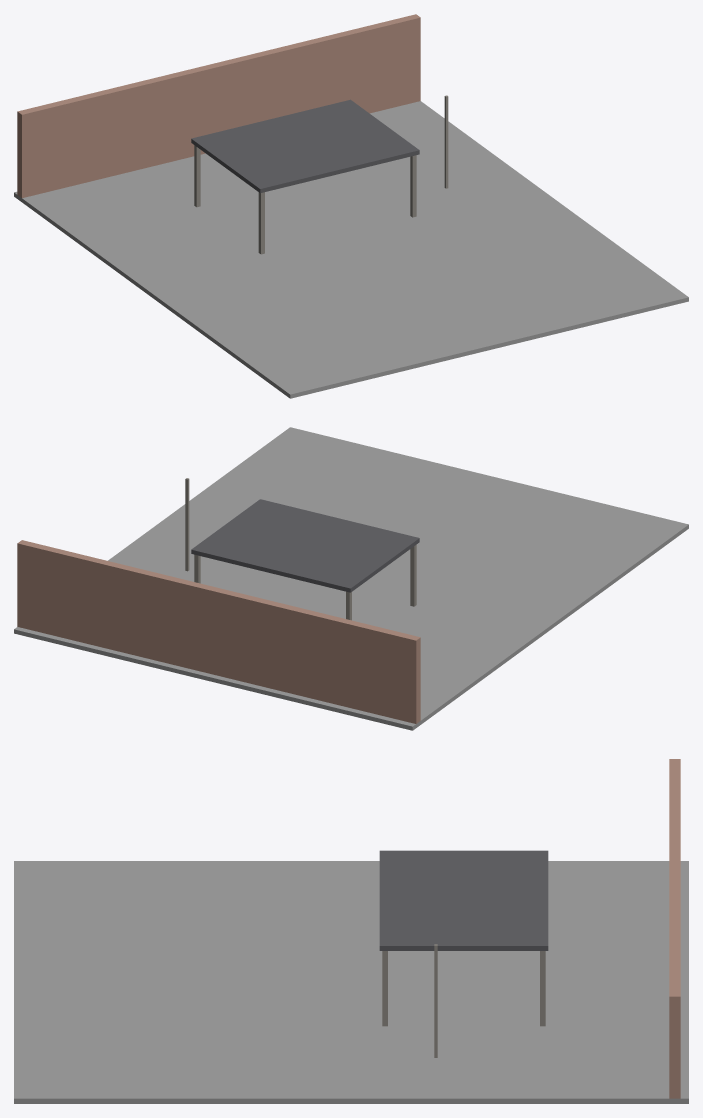
Rendered from rain_fixture.gltf.
The picture shows the model from 3 angles, top to bottom: view 1: azimuth 30°, elevation 25°; view 2: azimuth 150°, elevation 25°; view 3: azimuth 270°, elevation 25°; orthographic projection. The views are drawn at different scales.
Parts seen in each view (by area): view 1: ground_porous, ground_sealed, wall, roof; view 2: ground_porous, wall, ground_sealed, roof; view 3: ground_sealed, ground_porous, roof, wall.
Part boxes in pixels (left/top/right/bottom): ground_porous: left=14, top=153, right=489, bottom=398; ground_sealed: left=276, top=101, right=688, bottom=349; wall: left=17, top=14, right=420, bottom=198; roof: left=191, top=99, right=419, bottom=193; ground_porous: left=213, top=476, right=688, bottom=730; wall: left=17, top=540, right=420, bottom=723; ground_sealed: left=14, top=427, right=489, bottom=681; roof: left=191, top=499, right=419, bottom=592; ground_sealed: left=14, top=980, right=688, bottom=1103; ground_porous: left=14, top=861, right=688, bottom=979; roof: left=379, top=850, right=548, bottom=950; wall: left=669, top=759, right=680, bottom=1098.
Bounding box in the file's own units: 20 × 4.6 × 24.
